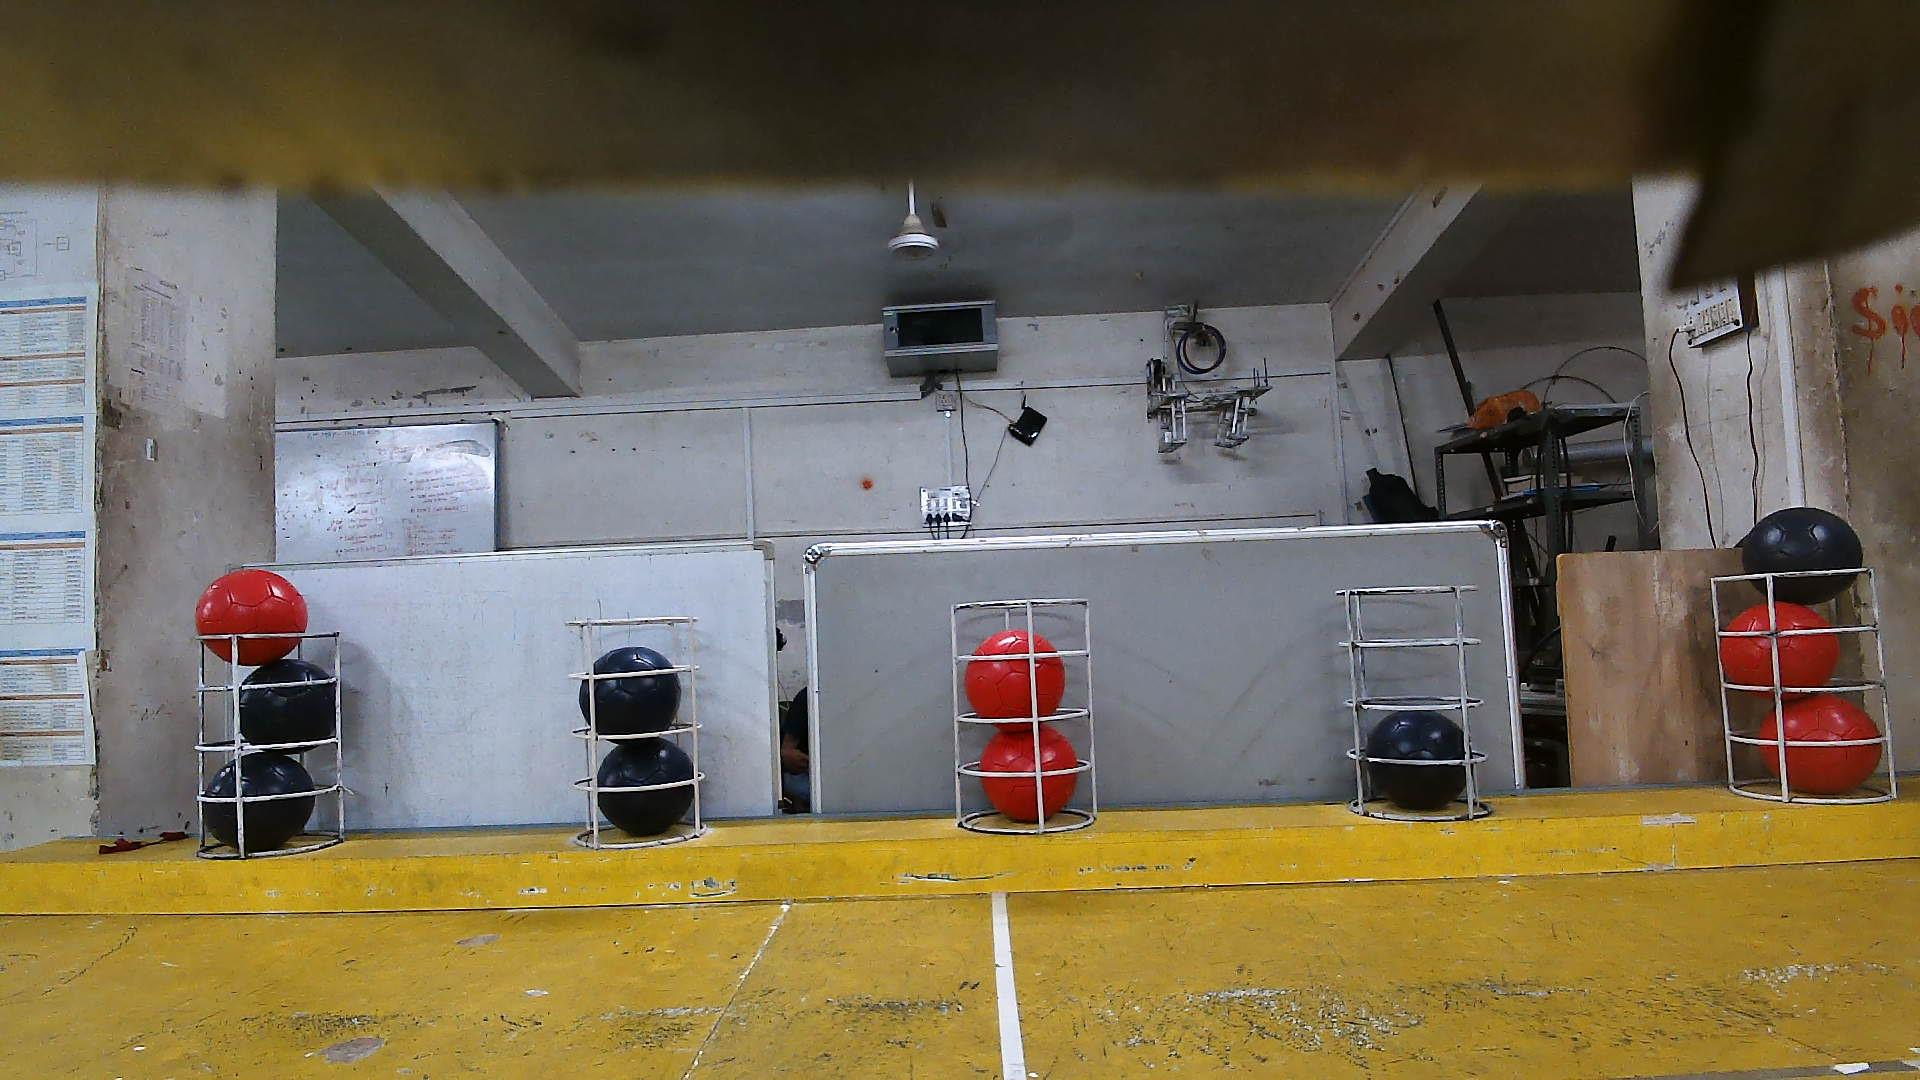dhoka: (1741, 506, 1863, 604), (203, 750, 315, 855), (1369, 712, 1485, 810), (596, 738, 694, 836), (582, 645, 683, 735), (240, 657, 338, 746)
laale: (1759, 694, 1883, 795), (195, 570, 307, 667), (1721, 600, 1841, 688), (978, 728, 1076, 822), (964, 630, 1065, 720)
